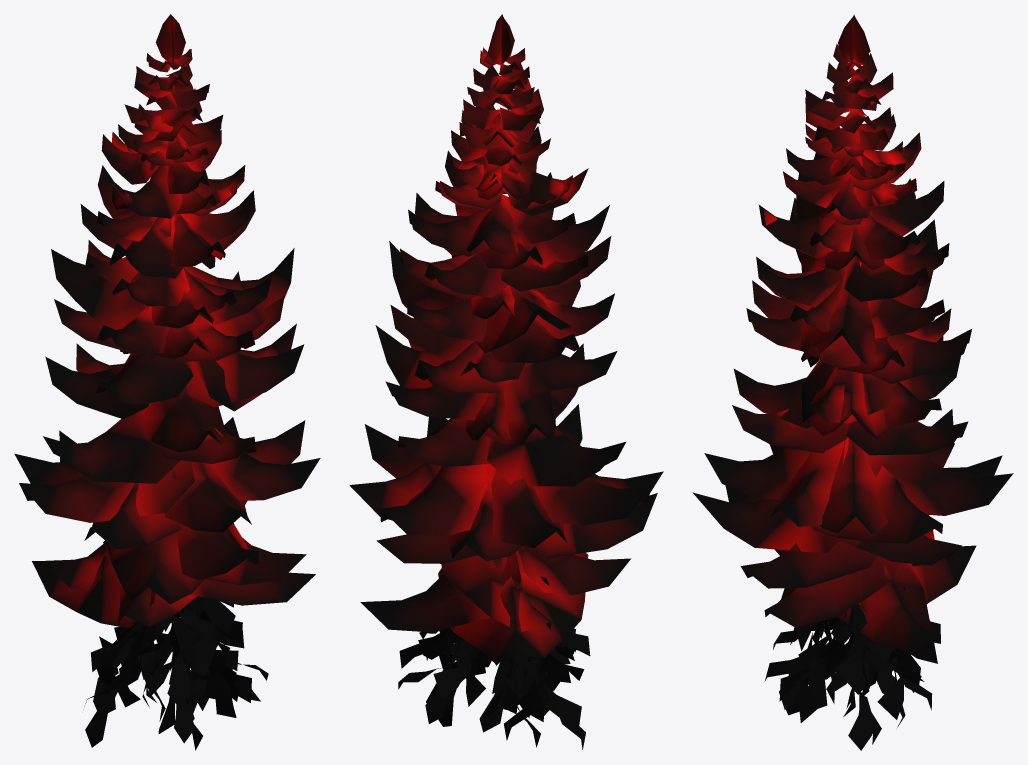
Rendered from Spruce_Med_1_test_flat.fbx.
3 renders of one model, left to right at view 1: azimuth 30°, elevation 25°; view 2: azimuth 150°, elevation 25°; view 3: azimuth 270°, elevation 25°, orthographic.
Visible parts, largest first — view 1: Spruce_Med_1_Dead_3; view 2: Spruce_Med_1_Dead_3; view 3: Spruce_Med_1_Dead_3.
Part boxes in pixels (<box>): Spruce_Med_1_Dead_3: <box>14,14,320,750</box>; Spruce_Med_1_Dead_3: <box>349,14,663,749</box>; Spruce_Med_1_Dead_3: <box>692,14,1013,750</box>.
Size of the model in its own units: 8.68 by 20.67 by 8.49.
